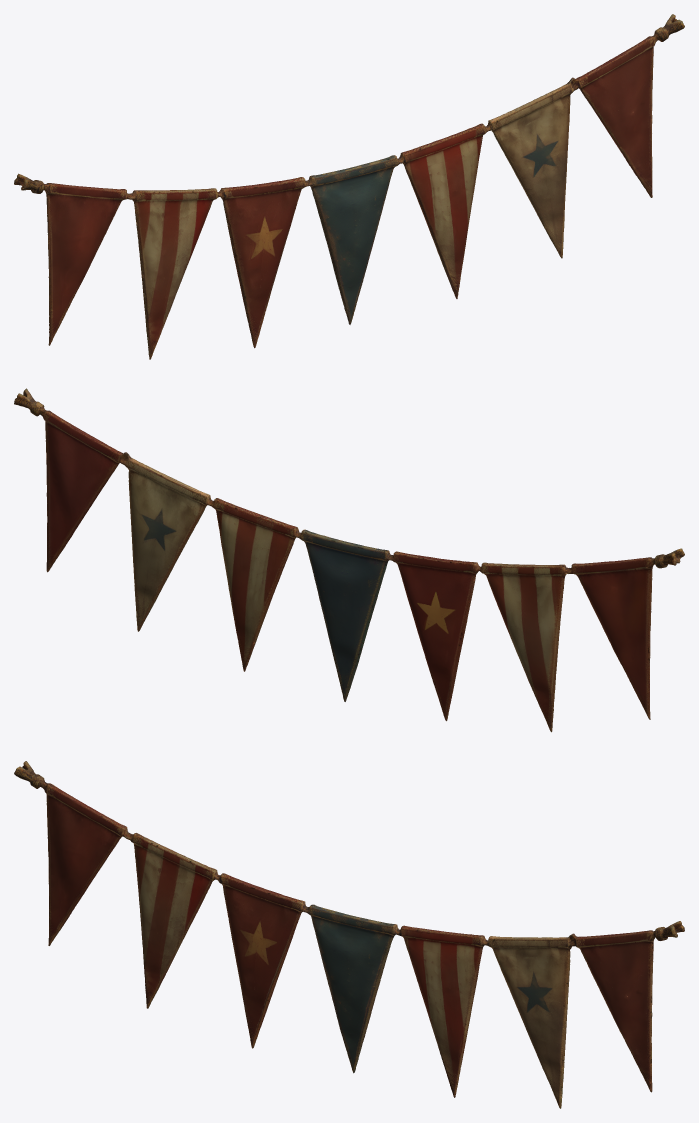
Rendered from Meshy_AI_Weathered_Star_Pennan_0509235901_texture.fbx.
3 views of the same model, one above another, from view 1: azimuth 30°, elevation 25°; view 2: azimuth 150°, elevation 25°; view 3: azimuth 330°, elevation 25° (orthographic).
Visible parts, largest first — view 1: Mesh_0; view 2: Mesh_0; view 3: Mesh_0.
Boxes of the visible parts, box(x1,y1,x2,y2) form: Mesh_0: box(14, 14, 684, 359); Mesh_0: box(14, 388, 684, 732); Mesh_0: box(14, 761, 684, 1108).
Size of the model in its own units: 191 by 63.61 by 5.41.
Materials: 1 (1 with a texture image).
